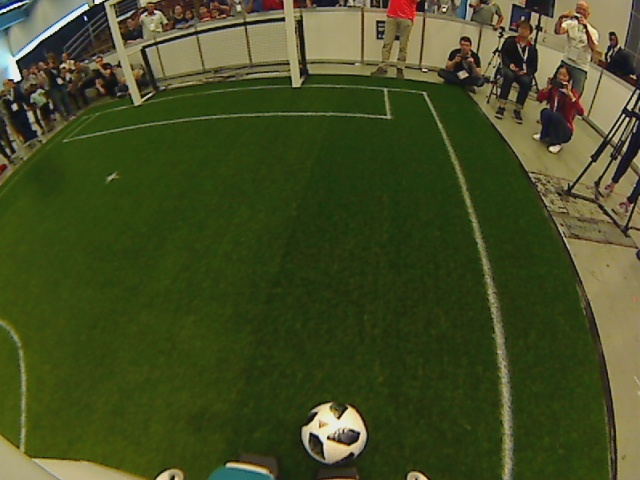ball: (298, 399, 370, 467)
